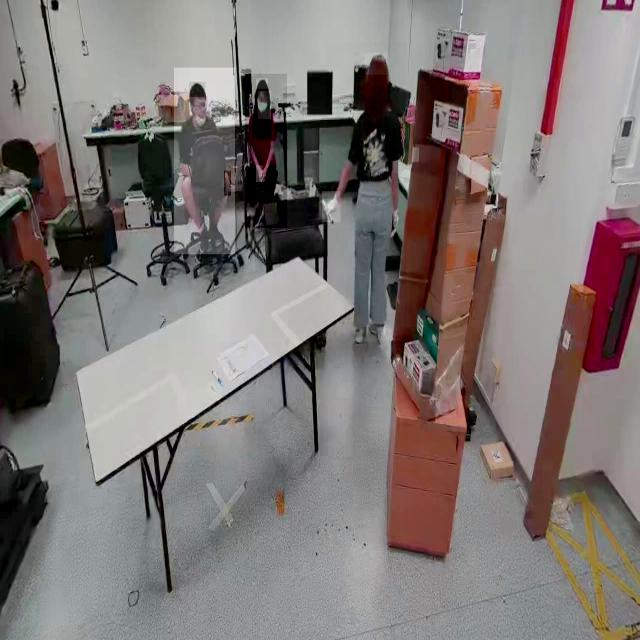face_mask: (258, 91, 271, 119)
hand_glove: (322, 191, 341, 223)
hand_noglove: (224, 170, 232, 197), (260, 166, 268, 182), (256, 165, 263, 183)
head_nohelmet: (365, 52, 389, 76), (189, 82, 206, 98), (256, 78, 268, 90)
person: (327, 43, 407, 352), (174, 68, 236, 255), (245, 74, 287, 228)
